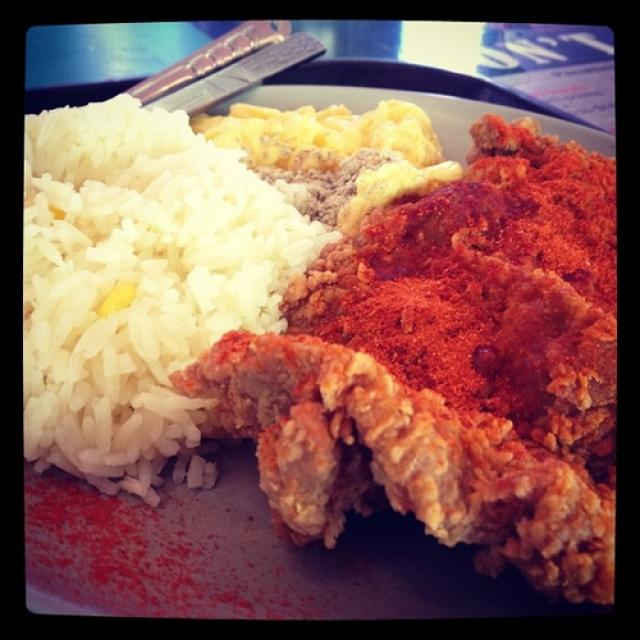鸡肉料理 含炸鸡: (32, 50, 617, 596)
